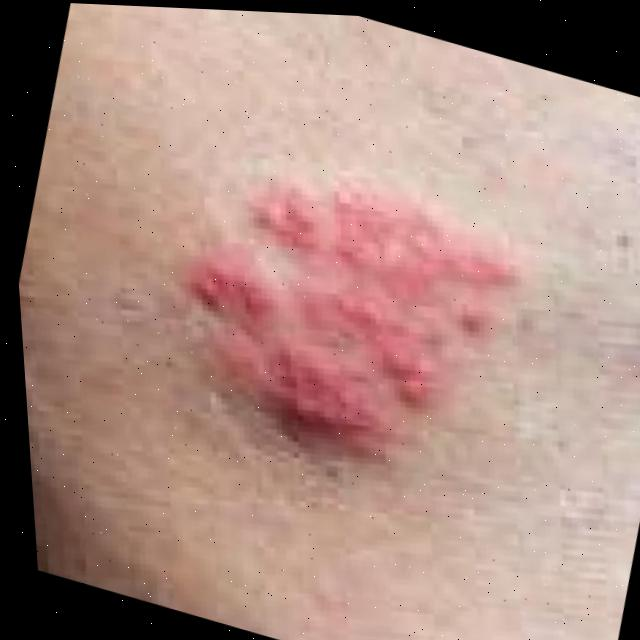Shingles: (152, 131, 539, 489)
